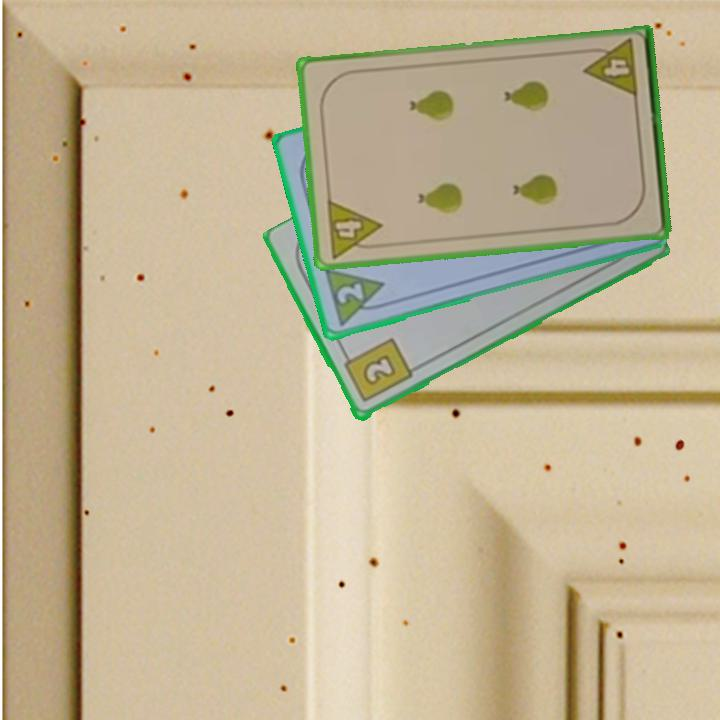2b: (339, 335, 415, 406)
2p: (320, 265, 392, 330)
4p: (323, 196, 386, 261), (580, 36, 641, 101)
